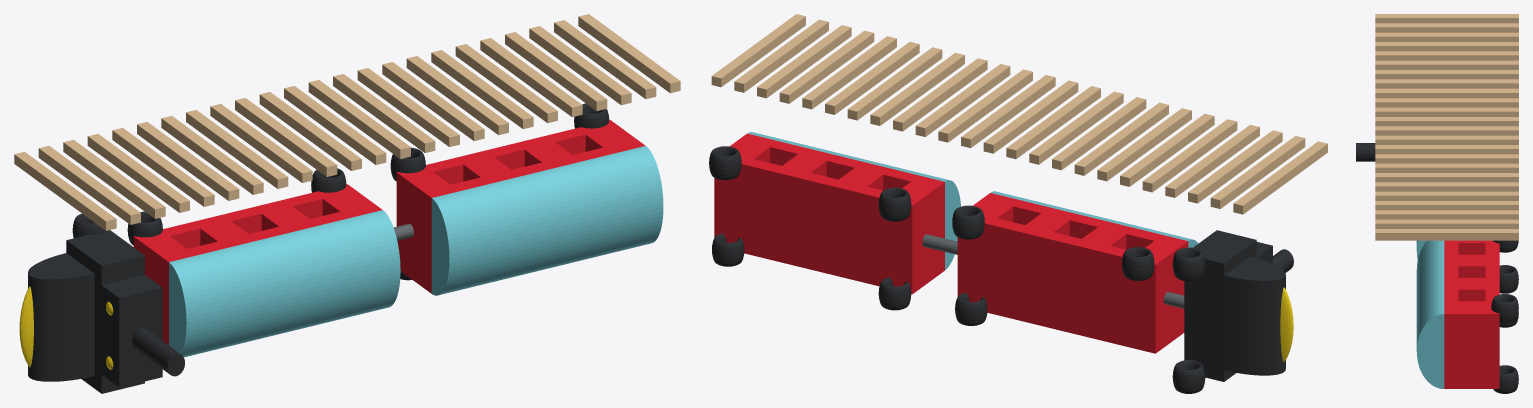
Rendered from tinker.obj.
3 renders of one model, left to right at view 1: azimuth 30°, elevation 25°; view 2: azimuth 150°, elevation 25°; view 3: azimuth 270°, elevation 25°, orthographic. The views are drawn at different scales.
Visible parts, largest first — view 1: group_0_14860437, group_0_7720667, group_0_2829873, group_0_15277357, group_0_16768282; view 2: group_0_15277357, group_0_14860437, group_0_2829873, group_0_7720667, group_0_6383466, group_0_16768282; view 3: group_0_14860437, group_0_15277357, group_0_7720667, group_0_2829873.
Part boxes in pixels (box(x1,y1,x2,y2)): group_0_14860437: box(14, 14, 680, 230); group_0_7720667: box(169, 146, 663, 357); group_0_2829873: box(28, 103, 609, 393); group_0_15277357: box(133, 120, 645, 345); group_0_16768282: box(19, 286, 113, 369); group_0_15277357: box(714, 133, 1188, 353); group_0_14860437: box(711, 14, 1327, 214); group_0_2829873: box(709, 146, 1293, 393); group_0_7720667: box(747, 132, 1198, 270); group_0_6383466: box(922, 234, 1184, 308); group_0_16768282: box(1280, 287, 1293, 362); group_0_14860437: box(1375, 14, 1518, 240); group_0_15277357: box(1444, 240, 1499, 388); group_0_7720667: box(1416, 240, 1444, 388); group_0_2829873: box(1356, 143, 1518, 393).
Bounding box in the file's own units: 199 × 69 × 59.
